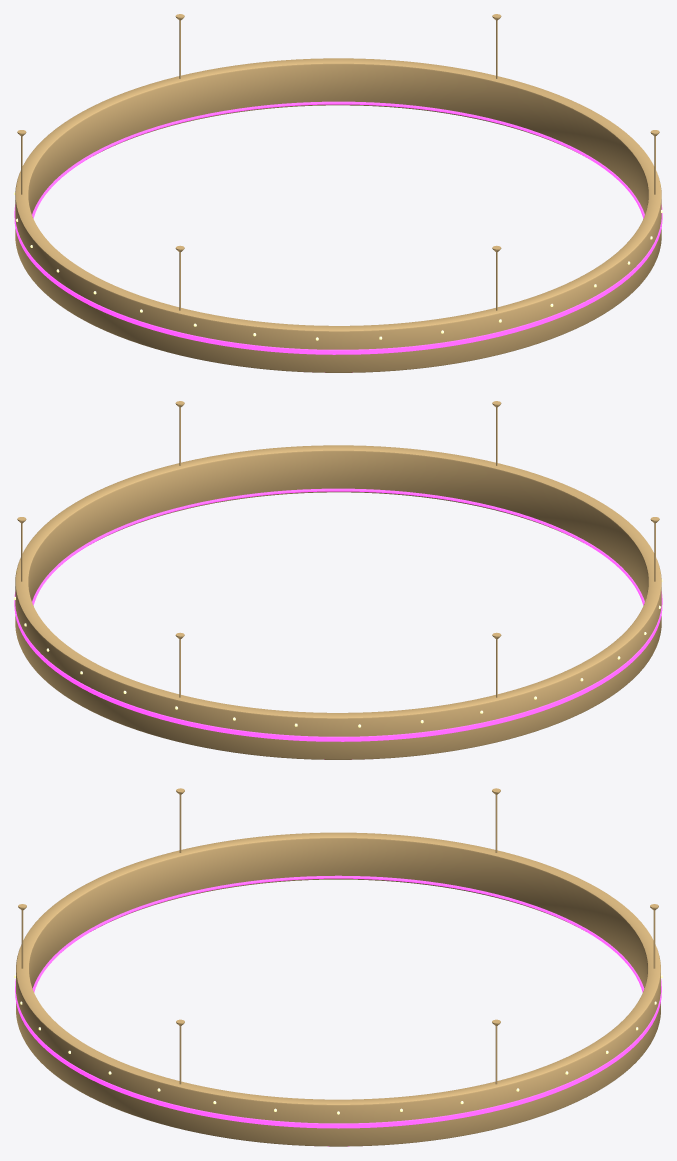
Rendered from JAC_03_Anel_Luminoso.glb.
The picture shows the model from 3 angles, top to bottom: view 1: azimuth 30°, elevation 25°; view 2: azimuth 150°, elevation 25°; view 3: azimuth 270°, elevation 25°; orthographic projection.
Visible parts, largest first — view 1: JAC_03_Anel_Luminoso; view 2: JAC_03_Anel_Luminoso; view 3: JAC_03_Anel_Luminoso.
Part boxes in pixels (left/top/right/bottom): JAC_03_Anel_Luminoso: left=14, top=14, right=662, bottom=372; JAC_03_Anel_Luminoso: left=14, top=401, right=662, bottom=759; JAC_03_Anel_Luminoso: left=14, top=788, right=662, bottom=1146.
Size of the model in its own units: 5.84 by 1.06 by 5.83.
